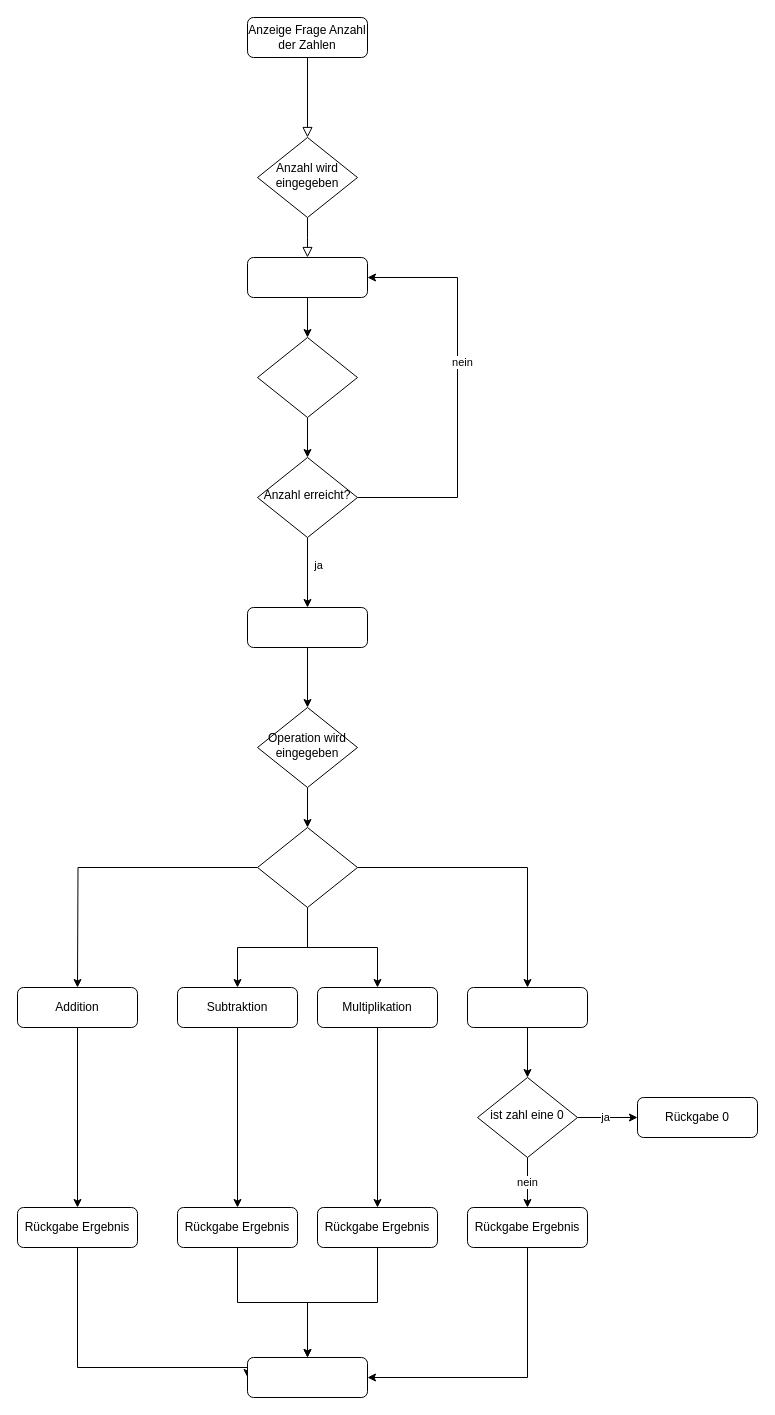
Image size: 775x1415. Some labels were removed from this diagram. Each missing label, with the box of its shape:
Anzeigen Eingabe Operation: (246, 606, 368, 648)
Anzeigen Eingabe Zahl n: (246, 256, 368, 298)
Auswertung: (256, 826, 358, 908)
Division: (466, 986, 588, 1028)
Ende: (246, 1356, 368, 1398)
Zahl n wird eingegeben: (256, 336, 358, 418)
